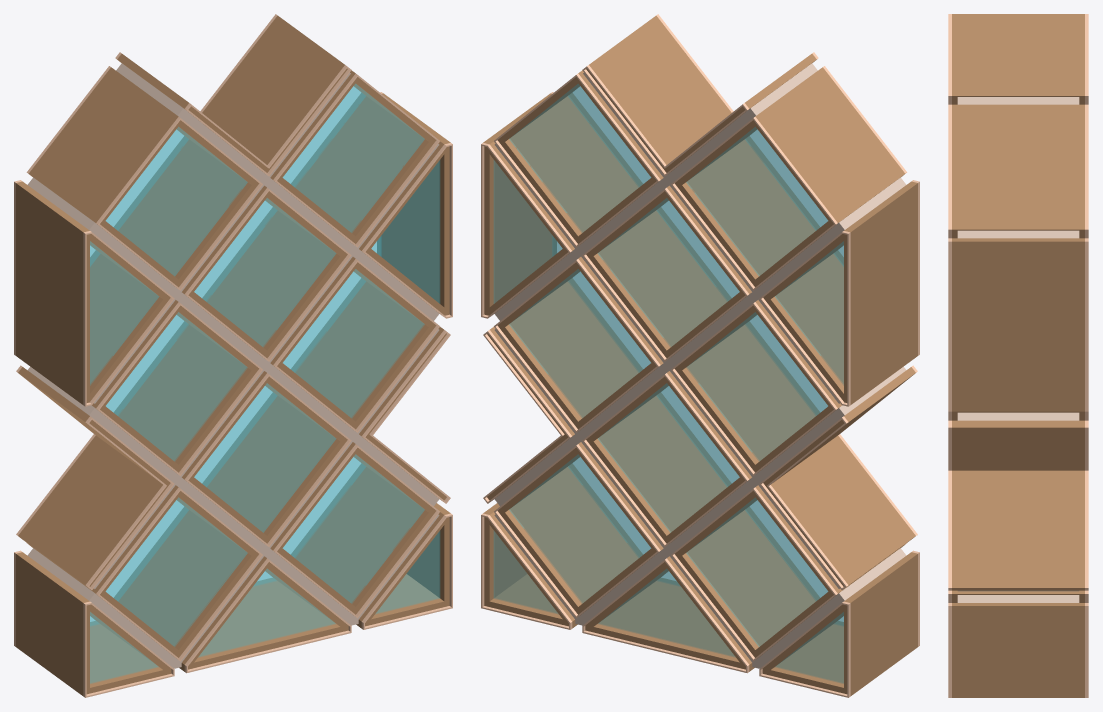
File: shelving.glb
The picture shows the model from 3 angles, left to right: view 1: azimuth 30°, elevation 25°; view 2: azimuth 150°, elevation 25°; view 3: azimuth 270°, elevation 25°; orthographic projection.
Parts seen in each view (by area): view 1: Object_1, Object_4, Object_2, Object_0; view 2: Object_1, Object_4, Object_2, Object_0; view 3: Object_1, Object_2, Object_0.
Part boxes in pixels (bbox=[...]): Object_1: bbox=[16, 15, 450, 695]; Object_4: bbox=[90, 84, 439, 683]; Object_2: bbox=[14, 14, 452, 697]; Object_0: bbox=[27, 63, 439, 668]; Object_1: bbox=[483, 15, 917, 695]; Object_4: bbox=[494, 84, 843, 683]; Object_2: bbox=[481, 14, 919, 697]; Object_0: bbox=[494, 63, 906, 668]; Object_1: bbox=[952, 14, 1084, 697]; Object_2: bbox=[948, 14, 1088, 697]; Object_0: bbox=[957, 97, 1079, 602].
Bounding box in the file's own units: 1.22 × 1.8 × 0.4098.
